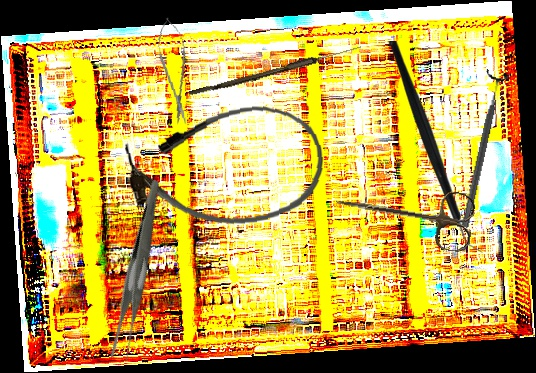Cannula: (122, 99, 329, 234)
Chopper: (387, 41, 485, 253)
Dressing Forceps: (66, 179, 213, 365)
Fixation Ring: (452, 69, 511, 230)
Iris Scissors: (331, 175, 477, 254)
Micro Scissor: (153, 15, 196, 128)
Surgical Spoon: (188, 42, 362, 100)
